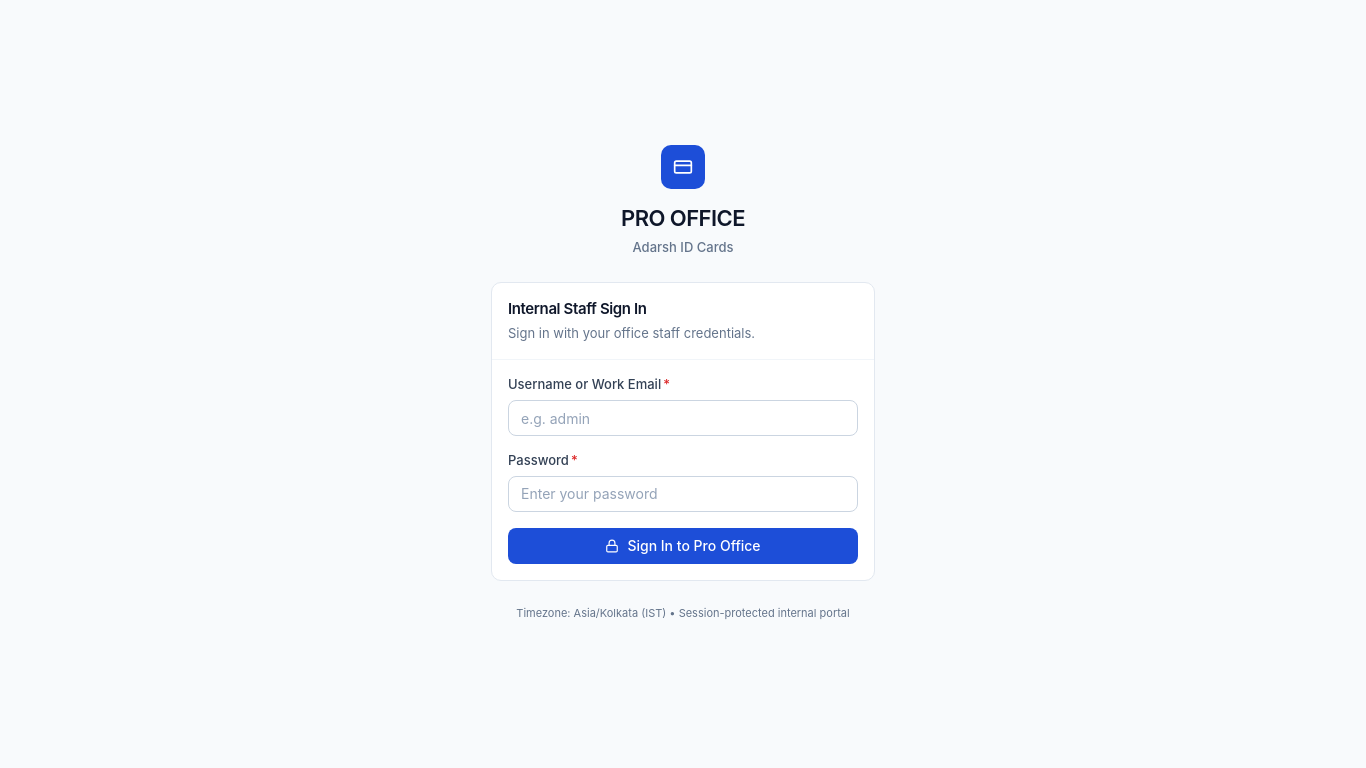
Test: Pro Office Application Shell & Phase 3-4 Placeholders › completes login form submission and transitions to dashboard
Expected: the heading "Internal Staff Sign In" is shown, [508,299,647,318]
Type "admin" into the field labelled "Username or Work Email*" at (683, 418), box [508,400,858,436]
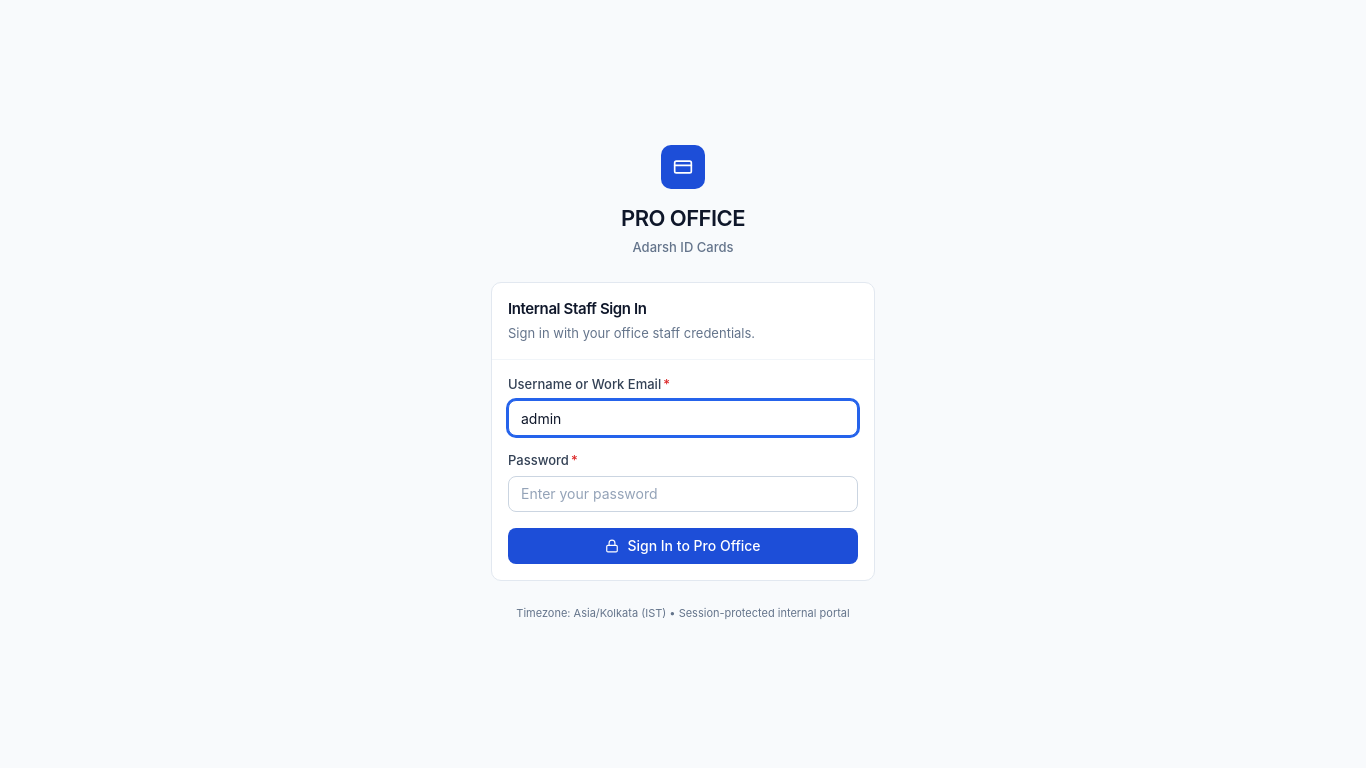
Type "StrongPassword123!" into the password field labelled "Password*" at (683, 494), box [508,476,858,512]
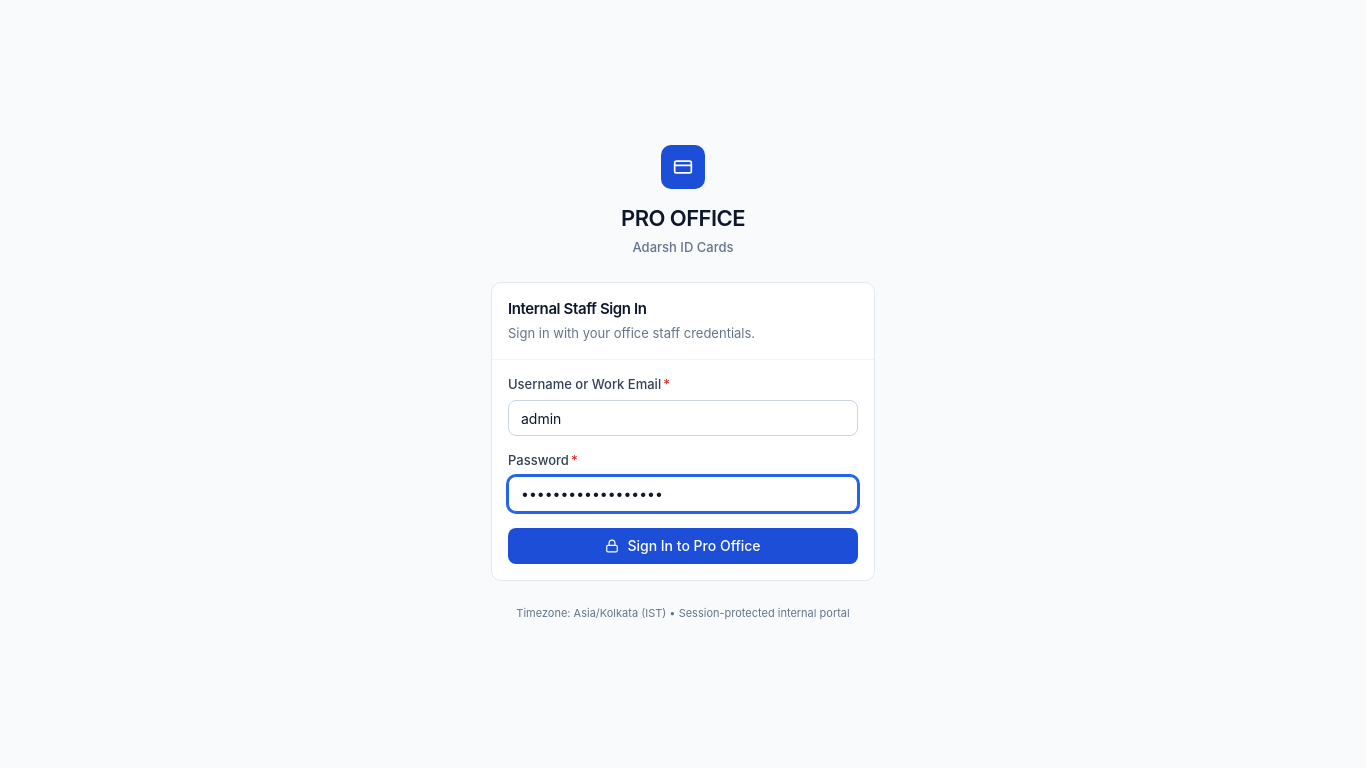
Click the button "Sign In to Pro Office" at (683, 546), box [508,528,858,564]
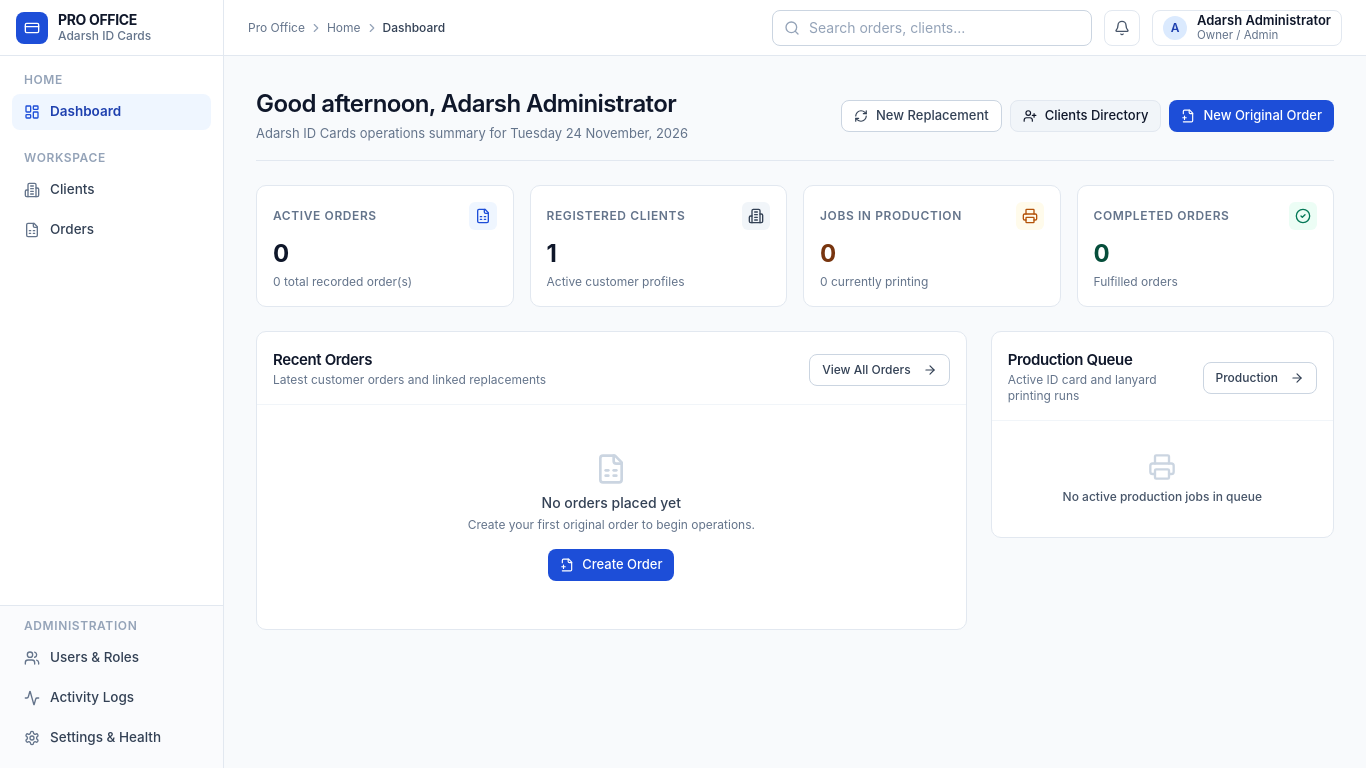
Expected: the heading "Good afternoon, Adarsh Administrator" is shown, [256,88,676,120]
